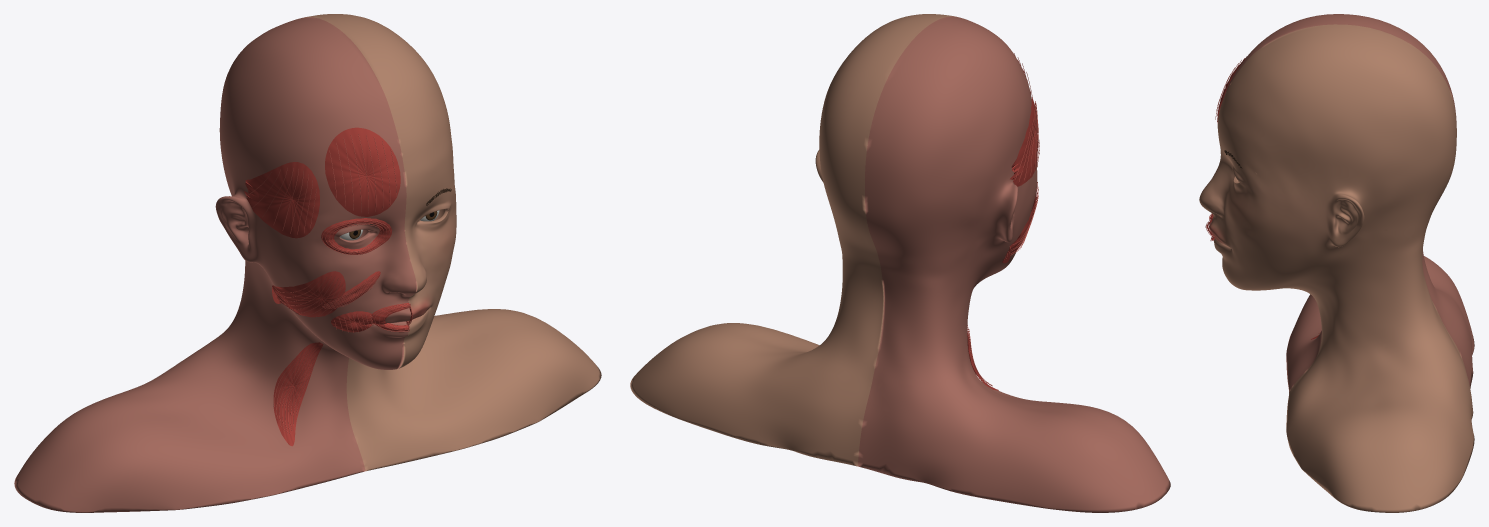
The model's file is lab-head-muscles-v2-ultra.glb.
3 renders of one model, left to right at view 1: azimuth 30°, elevation 25°; view 2: azimuth 150°, elevation 25°; view 3: azimuth 270°, elevation 25°, orthographic. The views are drawn at different scales.
Parts seen in each view (by area): view 1: part-facial-muscles-fascia, part-skin-half, part-facial-muscles-structures, part-facial-muscles-structures.001; view 2: part-facial-muscles-fascia, part-skin-half, part-facial-muscles-structures, part-facial-muscles-structures.001; view 3: part-skin-half, part-facial-muscles-fascia.
Boxes of the visible parts, <box> form: part-facial-muscles-fascia: <box>14,17,416,512</box>; part-skin-half: <box>304,14,601,471</box>; part-facial-muscles-structures: <box>244,127,412,446</box>; part-facial-muscles-structures.001: <box>246,134,412,433</box>; part-facial-muscles-fascia: <box>857,16,1170,512</box>; part-skin-half: <box>630,14,954,466</box>; part-facial-muscles-structures: <box>967,60,1037,390</box>; part-facial-muscles-structures.001: <box>967,53,1039,386</box>; part-skin-half: <box>1199,24,1474,512</box>; part-facial-muscles-fascia: <box>1201,14,1474,391</box>.
Bounding box in the file's own units: 30.91 × 22.04 × 14.93.
